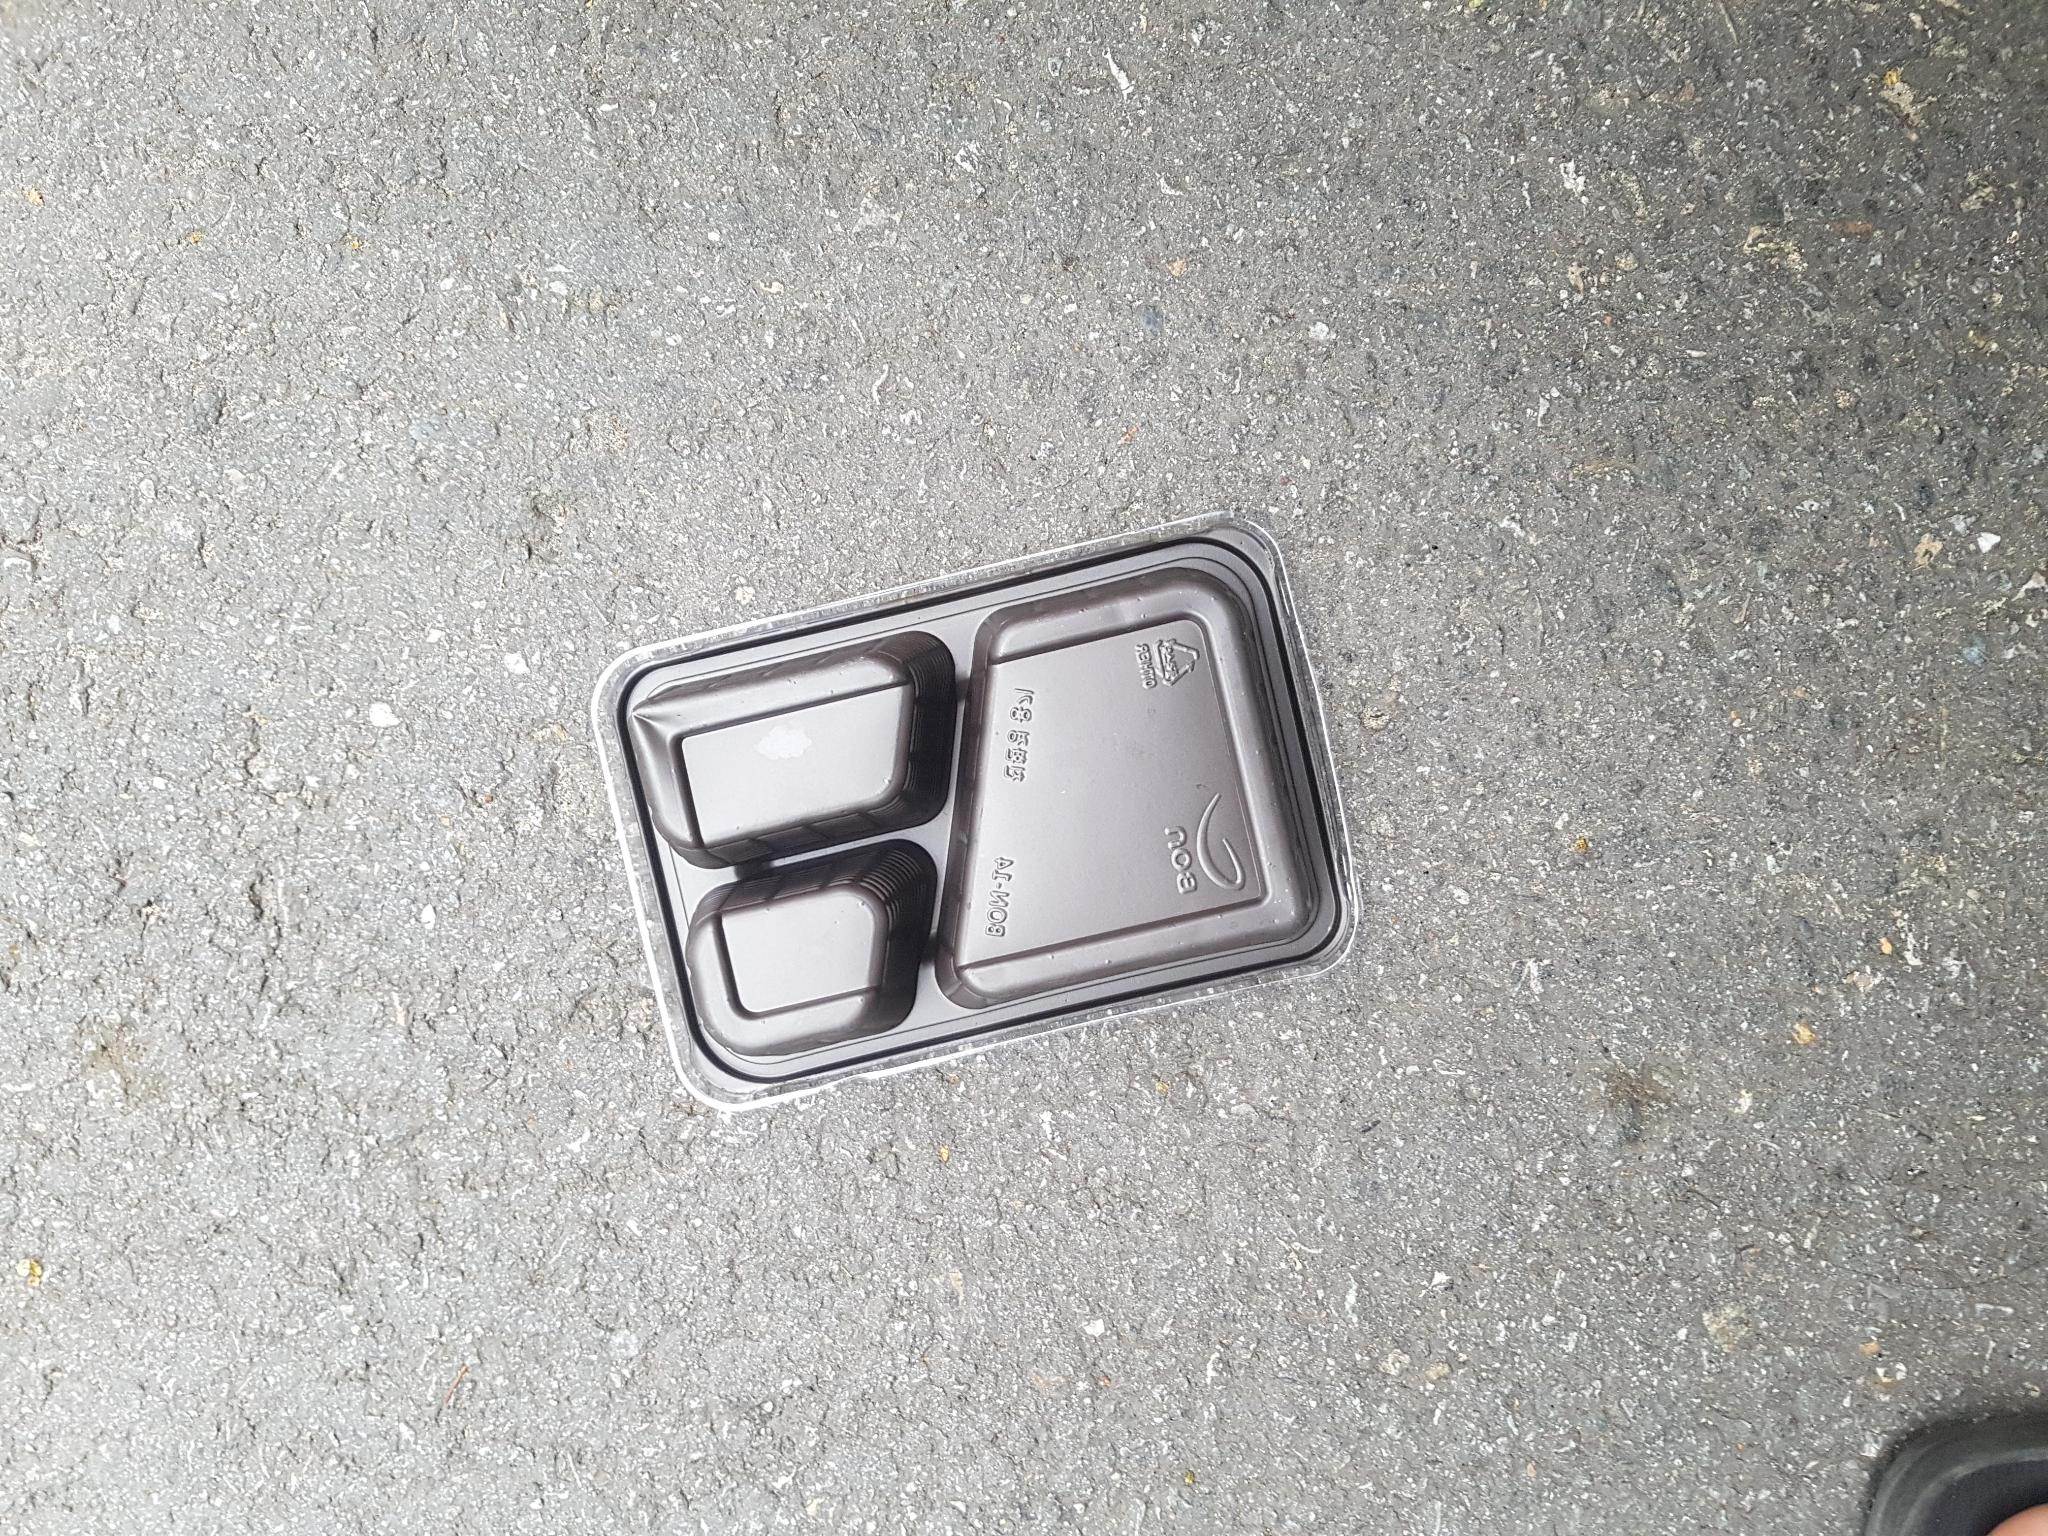bottle: (496, 308, 1418, 922)
